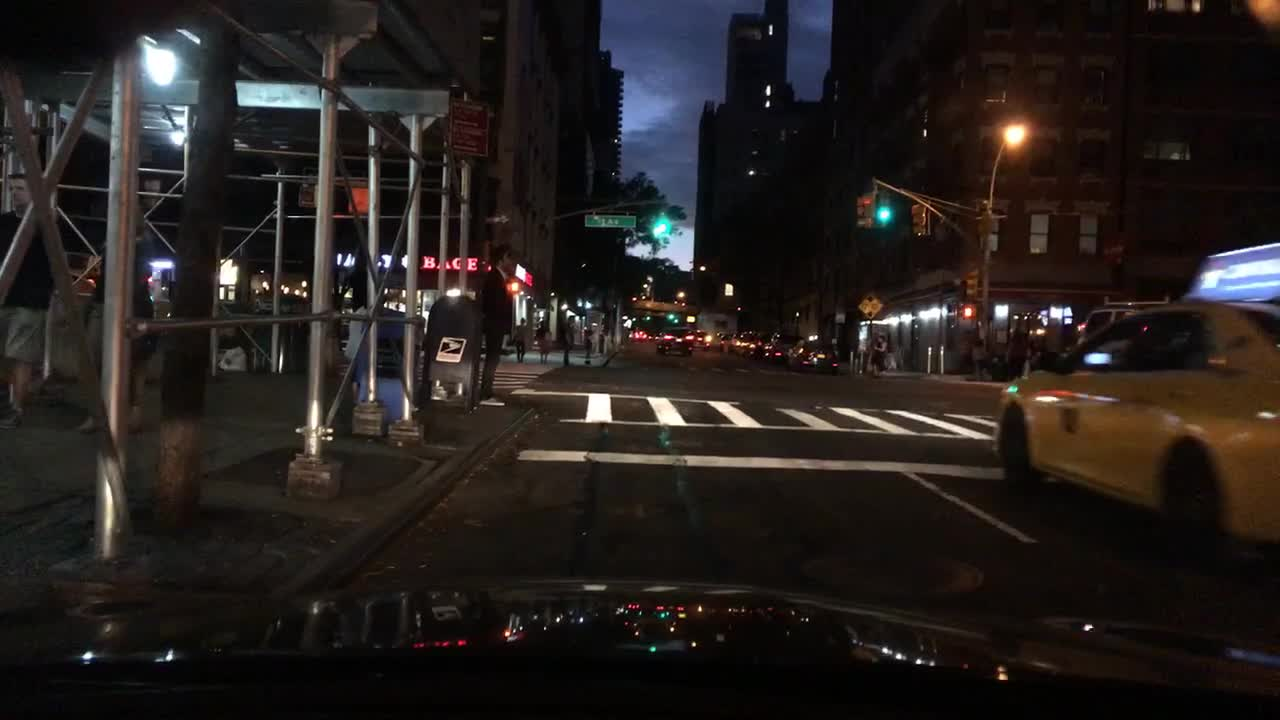car: (989, 242, 1279, 556), (212, 334, 280, 374), (779, 332, 838, 372), (724, 327, 759, 357), (756, 334, 779, 364), (695, 329, 719, 349), (624, 323, 651, 340), (695, 340, 722, 354)
person: (79, 221, 152, 435), (0, 167, 52, 428), (471, 239, 516, 410), (560, 313, 577, 362), (514, 312, 530, 362), (869, 330, 886, 376), (535, 315, 550, 362), (582, 320, 592, 367)
traffic light: (852, 192, 874, 227), (344, 185, 368, 215), (874, 195, 894, 226), (908, 200, 923, 236), (963, 269, 980, 300), (651, 214, 670, 237), (958, 303, 978, 322), (665, 313, 678, 327)
traffic sign: (445, 97, 487, 160), (584, 212, 636, 227), (869, 298, 884, 313), (859, 293, 870, 313)
